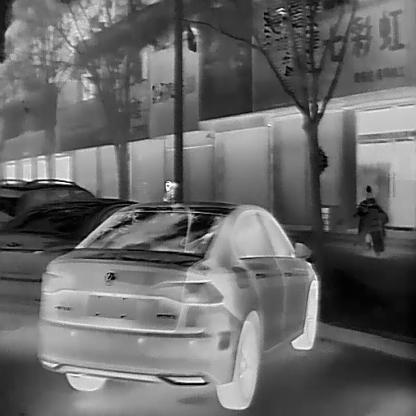car: (35, 201, 320, 408), (0, 197, 142, 340), (0, 177, 93, 226)
